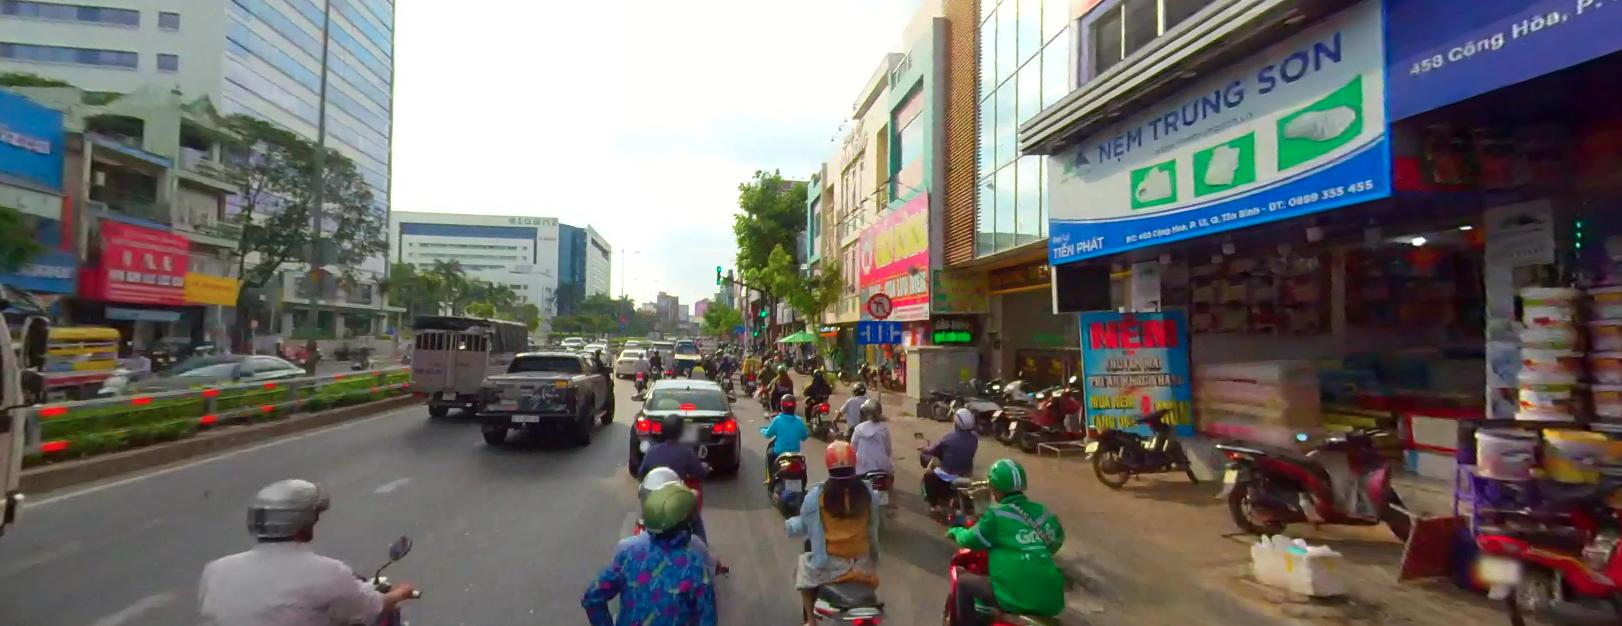Cam nguoc chieu: (619, 314, 625, 320)
Cam re: (866, 290, 891, 317)
Hieu lenh: (619, 321, 625, 327)
